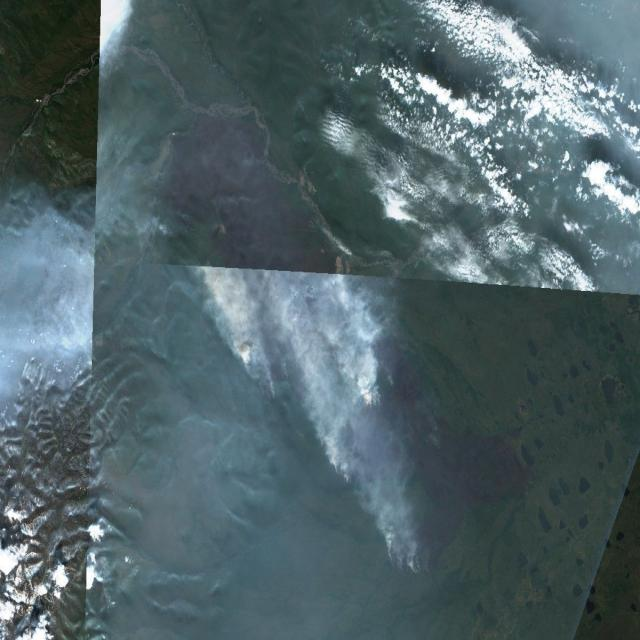fire: (236, 342, 284, 411), (380, 536, 438, 579), (356, 367, 391, 411), (315, 444, 353, 484)
